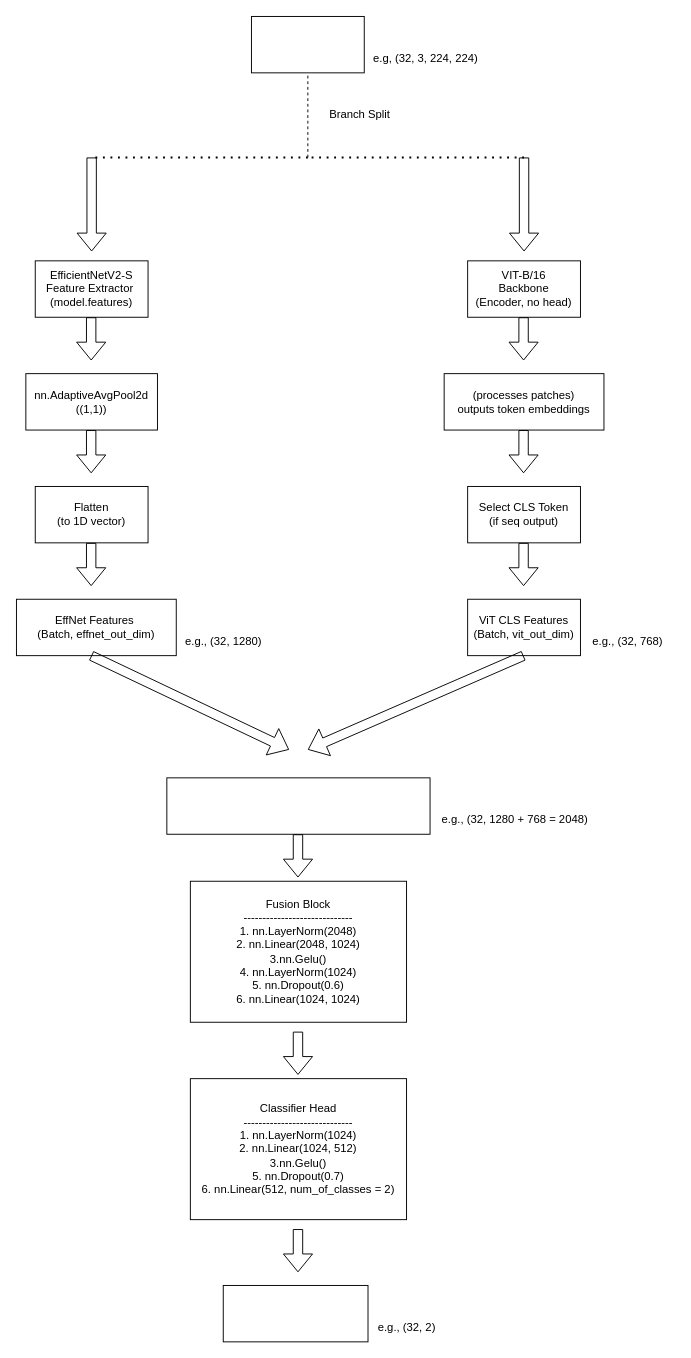
The diagram is 691 pixels wide and 1358 high, and some of its shapes have lost their labels. The box of each missing label's shape, as (x1, y1, x2, y2) in pixels:
Conactenate Features (Batch, effnet_out_dim + vit_out_dim): (166, 777, 430, 834)
Input Image (Batch, 3, H, W): (251, 16, 364, 73)
Output Logits (Batch, num_of_classes): (222, 1285, 368, 1342)
